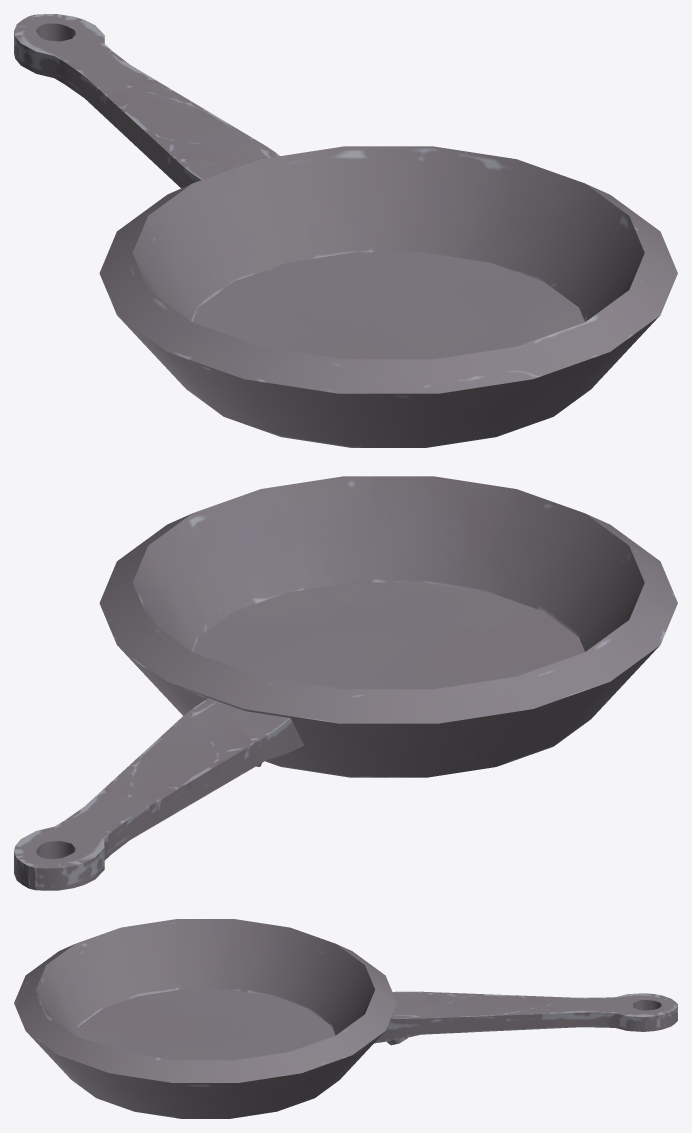
The model's file is Pan_1.gltf.
3 renders of one model, top to bottom at view 1: azimuth 30°, elevation 25°; view 2: azimuth 150°, elevation 25°; view 3: azimuth 270°, elevation 25°, orthographic. The views are drawn at different scales.
Parts seen in each view (by area): view 1: Pan_1; view 2: Pan_1; view 3: Pan_1.
Part boxes in pixels (bbox=[...]): Pan_1: bbox=[14, 14, 677, 447]; Pan_1: bbox=[14, 476, 677, 890]; Pan_1: bbox=[14, 919, 677, 1118].
Bounding box in the file's own units: 0.5117 × 0.1044 × 0.9002.
Materials: 1 (1 with a texture image).
